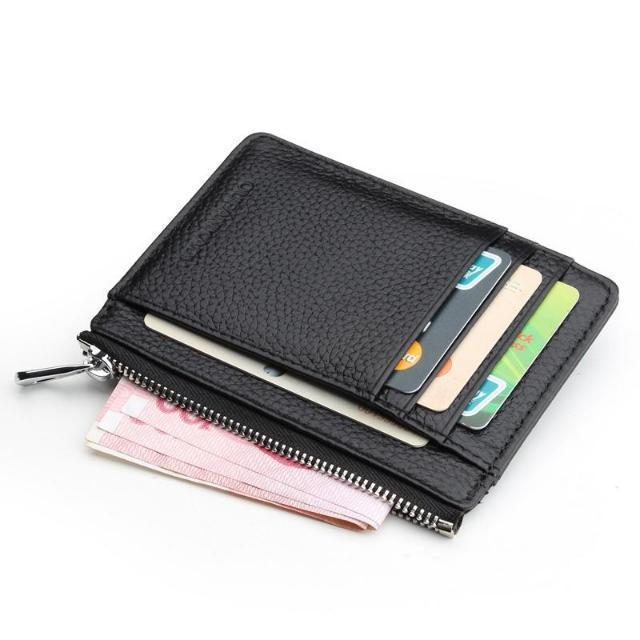wallet: (88, 126, 620, 536)
